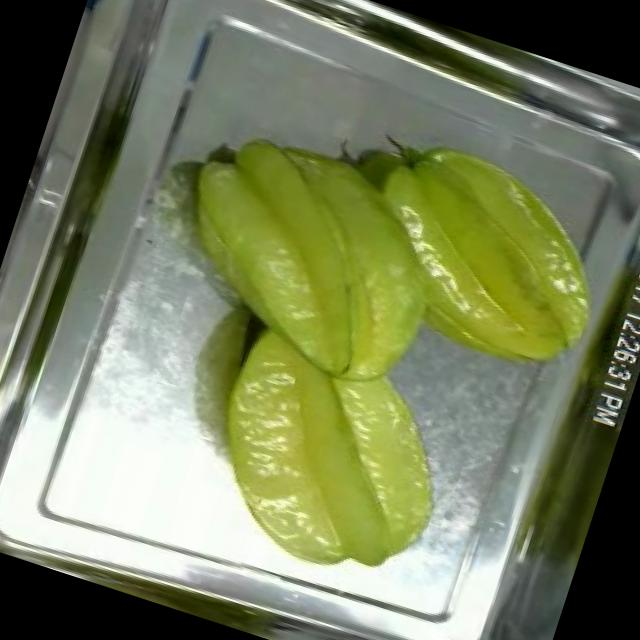fruit: (135, 95, 486, 404), (177, 313, 482, 606), (329, 113, 640, 398)
